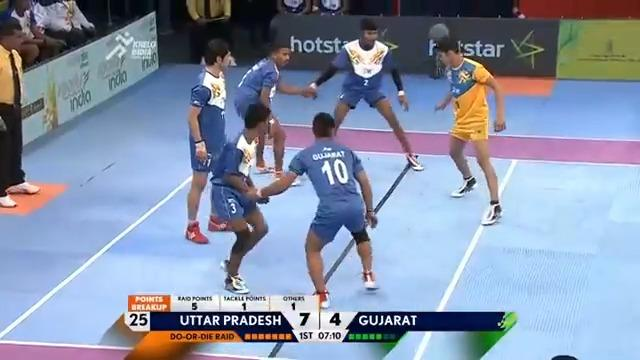Player: (257, 111, 380, 308), (306, 17, 424, 171), (207, 102, 274, 294), (233, 41, 316, 185), (184, 37, 233, 244), (0, 15, 41, 207)
Raider: (432, 35, 506, 225)
referee: (185, 0, 236, 66), (426, 22, 450, 79)
